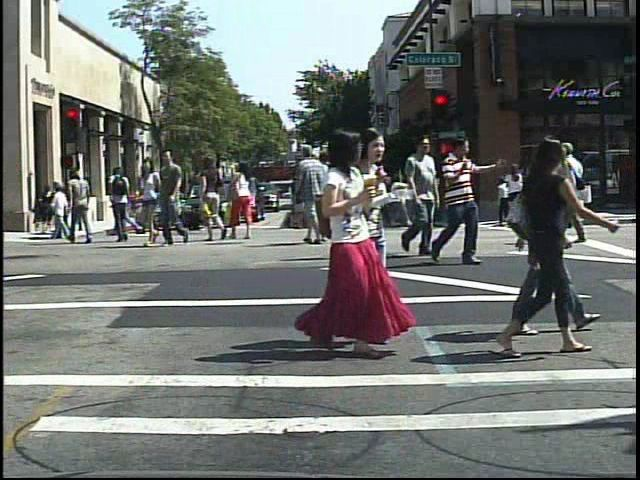person: (496, 129, 615, 368), (293, 125, 392, 364), (498, 131, 597, 339), (436, 129, 495, 267), (343, 135, 390, 264), (394, 136, 441, 261), (556, 135, 598, 249), (356, 130, 391, 246), (297, 141, 334, 249), (156, 147, 194, 251), (135, 159, 171, 252), (319, 147, 348, 248), (196, 153, 227, 242), (64, 165, 96, 245), (106, 163, 136, 243), (230, 160, 257, 240), (503, 161, 530, 232), (327, 161, 347, 230)
